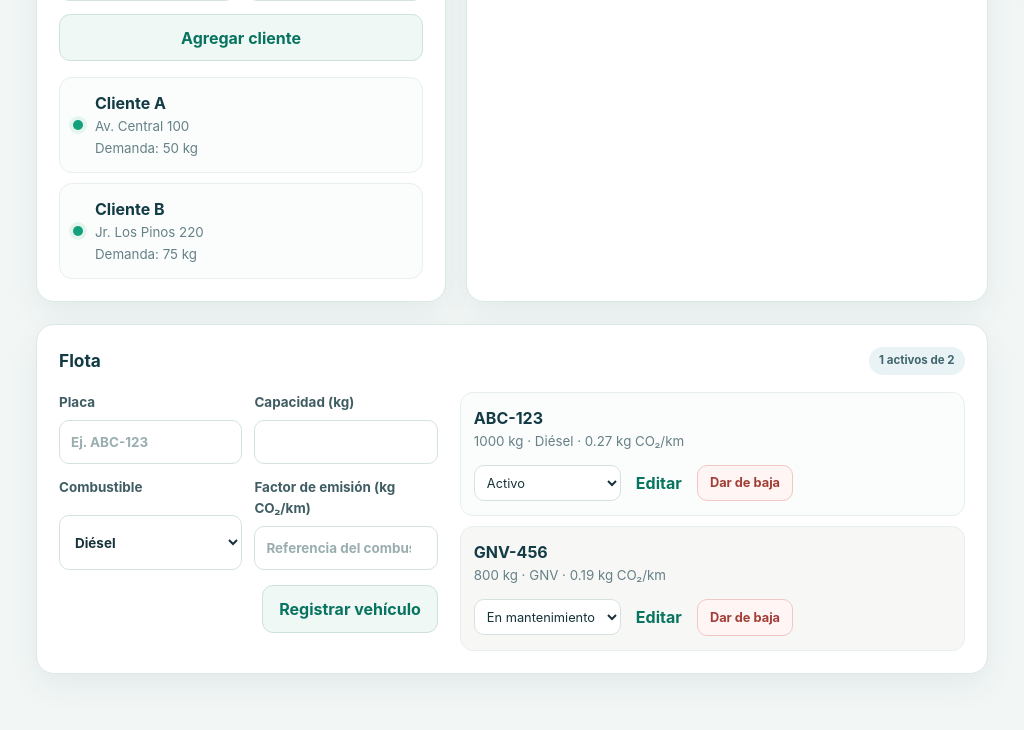
Scenario: Gestión de flota › muestra el error de placa duplicada y no agrega el vehículo
(page scrolled)
expect the text "ABC-123" is shown: met, box x1=474 y1=408 x2=543 y2=428
Type "ABC-123" into the field labelled "Placa" at (151, 442), box x1=59 y1=420 x2=242 y2=464
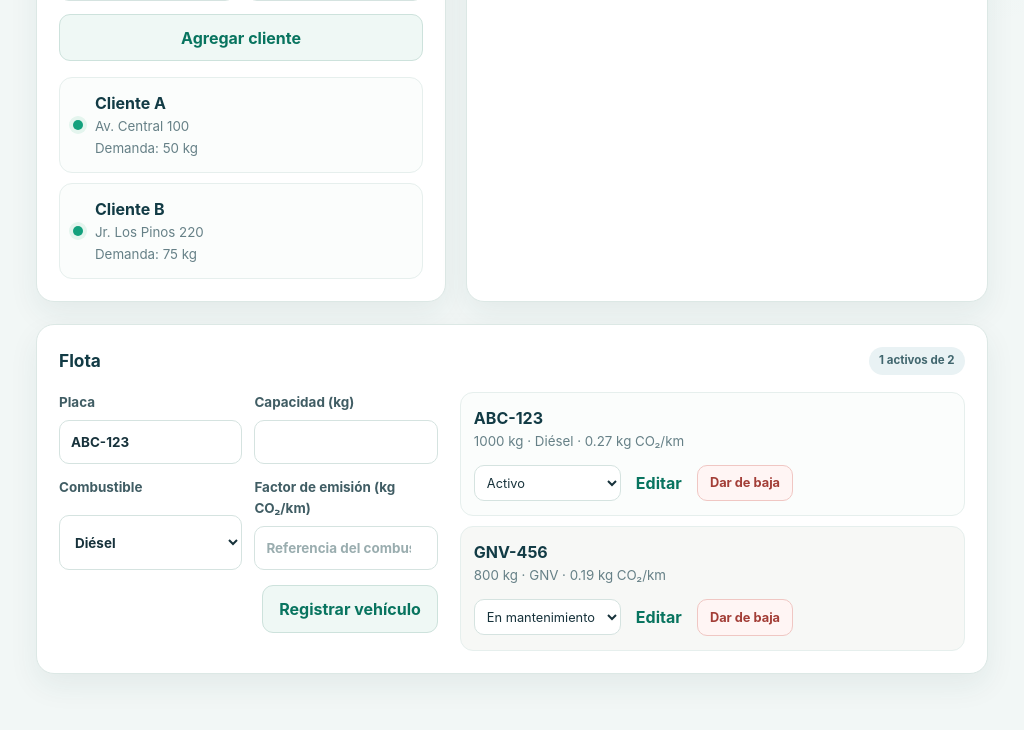
Type "500" into the number field labelled "Capacidad (kg)" at (346, 442), box x1=254 y1=420 x2=438 y2=464
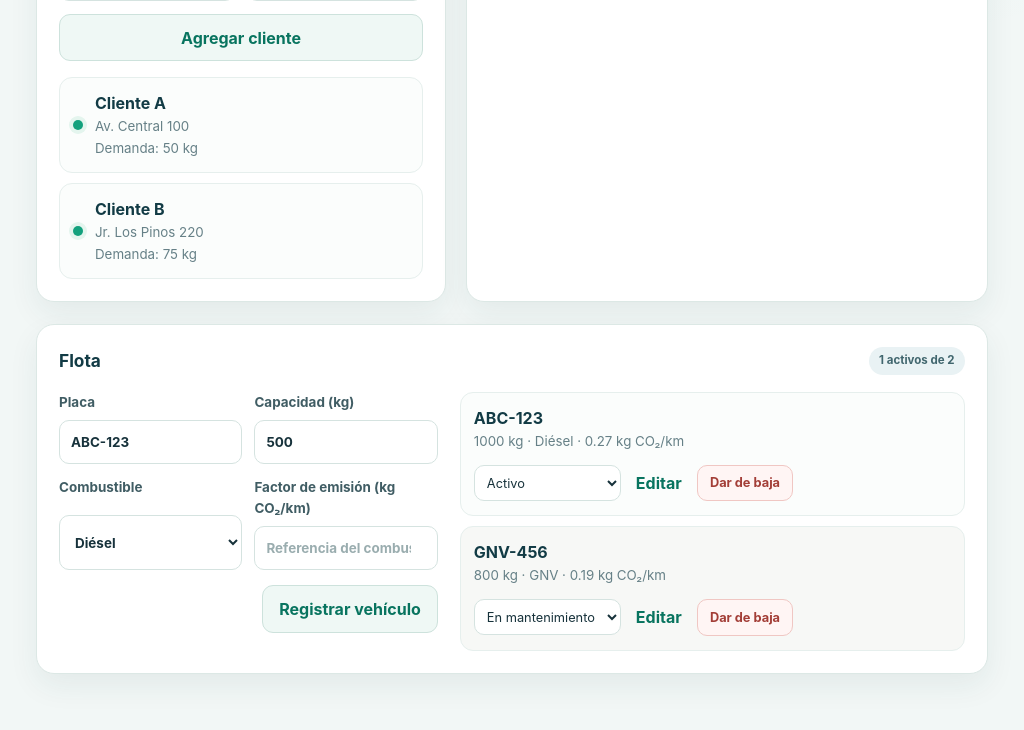
Click the button "Registrar vehículo" at (350, 609), box x1=262 y1=585 x2=438 y2=633
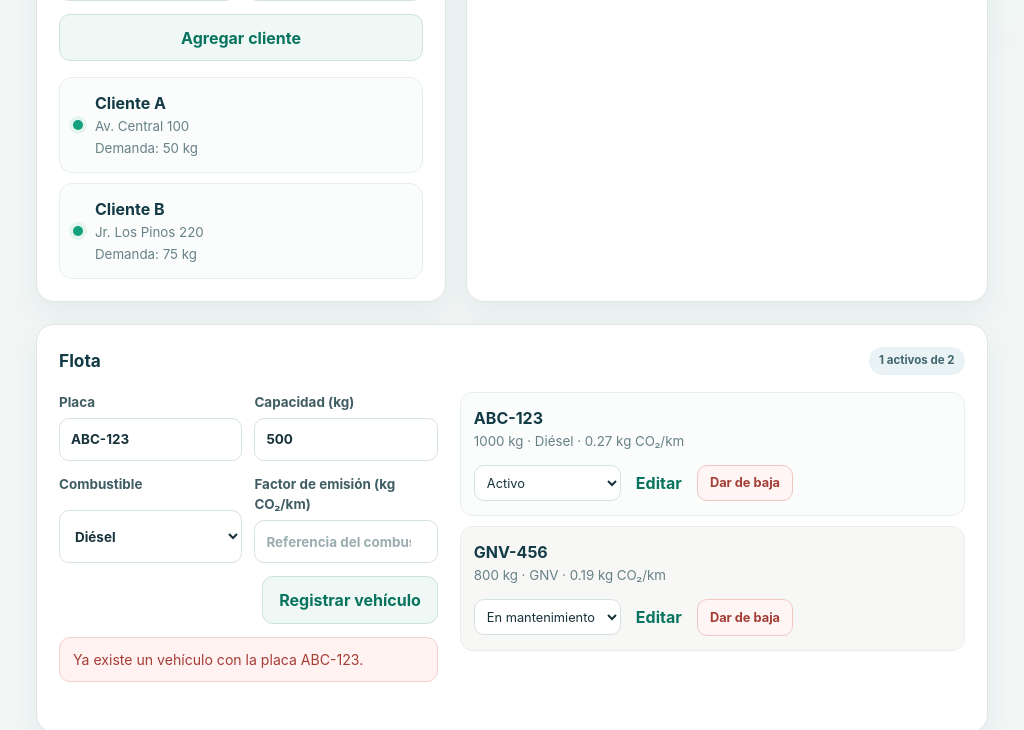
expect the text "ABC-123" is shown once: met, box x1=474 y1=408 x2=543 y2=428
expect the text "Ya existe un vehículo con la placa ABC-123." is shown: met, box x1=59 y1=637 x2=438 y2=682
